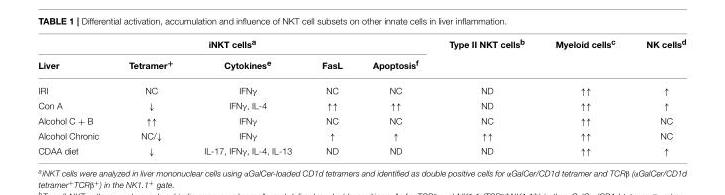table: (37, 37, 685, 155)
table column: (187, 37, 306, 155), (432, 37, 539, 155), (539, 37, 630, 155), (37, 37, 113, 155), (356, 37, 432, 155), (113, 37, 187, 155), (630, 37, 685, 155), (306, 37, 356, 155)
table column header: (37, 37, 685, 78)
table row: (37, 53, 685, 78), (37, 78, 685, 98), (37, 37, 685, 53), (37, 98, 685, 113), (37, 113, 685, 128), (37, 128, 685, 143), (37, 143, 685, 155)
table spanning cell: (37, 37, 432, 53), (432, 37, 539, 78), (539, 37, 630, 78), (630, 37, 685, 78)
